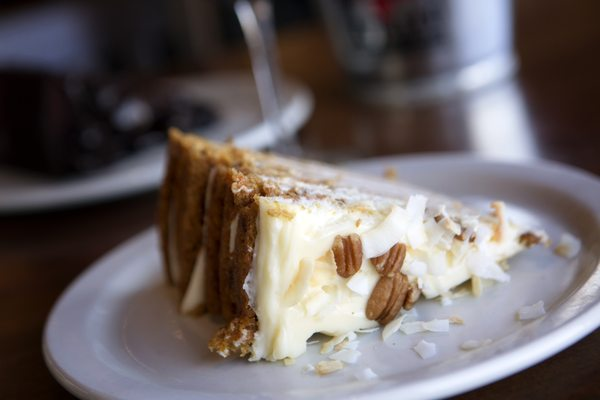burger: (229, 1, 316, 150)
pizza: (512, 1, 600, 176)
